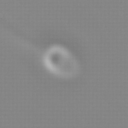normal: (1, 20, 45, 53)
